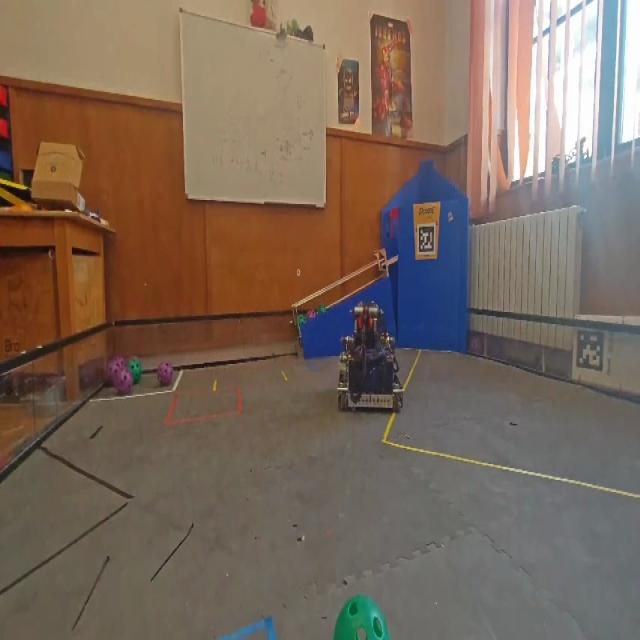artifact_green: (334, 595, 389, 639), (129, 359, 141, 383), (298, 315, 307, 326), (317, 304, 326, 314)
artifact_purple: (114, 368, 133, 394), (108, 358, 125, 386), (157, 362, 173, 386), (115, 356, 126, 367), (307, 309, 317, 320)
